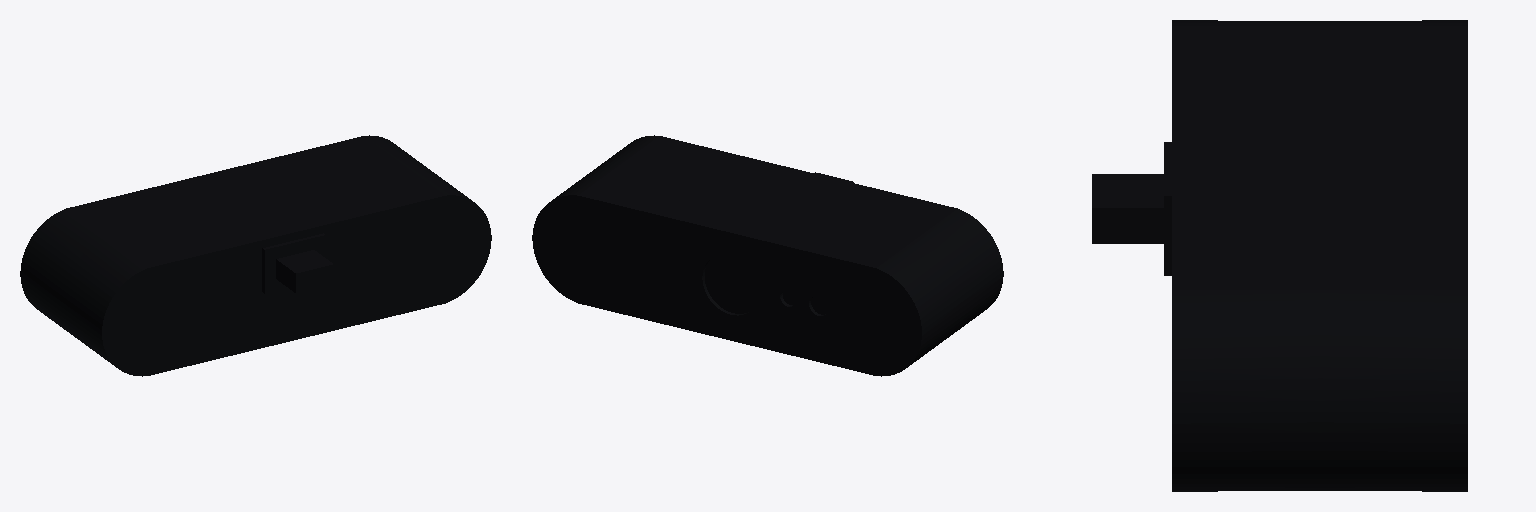
URDF robot description (model_generic):
<?xml version="1.0" ?>
<robot name="model_generic"> 
	<link name="usb_cam_brio"/>
	<link name="camera_link">
		<inertial>
			<origin rpy="0 0 0" xyz="0 0 0"/>
			<mass value="0.1"/>
			<inertia ixx="1.0E-08" ixy="1.0E-08" ixz="1.0E-08" iyy="1.0E-07" iyz="1.0E-07" izz="1.0E-07"/>
		</inertial>
		<visual> 
			<origin xyz=" 0.00000000  0.00000000  0.00000000" rpy="0 0 0" /> 
			<geometry> 
				<mesh filename="package://brio_cam/logitech_uio_camera.stl" scale=" 0.00100000  0.00100000  0.00100000"/> 
			</geometry> 
			<material name="">
				<color rgba="0.0792156862745098 0.0819607843137255 0.0933333333333333 1" />
			</material>
		</visual> 
	</link>
	<joint name="camera_joint" type="fixed">
		<parent link="camera_link"/>
		<child link="usb_cam_brio"/>
	</joint>
</robot>

--- Facts derived from the render (not from the file) ---
3 views of the same robot in one strip: view 1: azimuth 30°, elevation 25°; view 2: azimuth 150°, elevation 25°; view 3: azimuth 270°, elevation 25° (orthographic).
Model model_generic with 2 links and 1 joints (1 fixed), rooted at camera_link, posed all joints at 0.
Links seen in each view (by area): view 1: camera_link; view 2: camera_link; view 3: camera_link.
Link boxes in pixels (x1=…): camera_link: x1=20, y1=135, x2=491, y2=376; camera_link: x1=532, y1=135, x2=1003, y2=376; camera_link: x1=1092, y1=20, x2=1467, y2=491.
Bounding box of the posed robot: 0.102 × 0.047 × 0.027 m (x, y, z).
1 mesh visuals loaded from 1 distinct referenced files (1 binary STL).